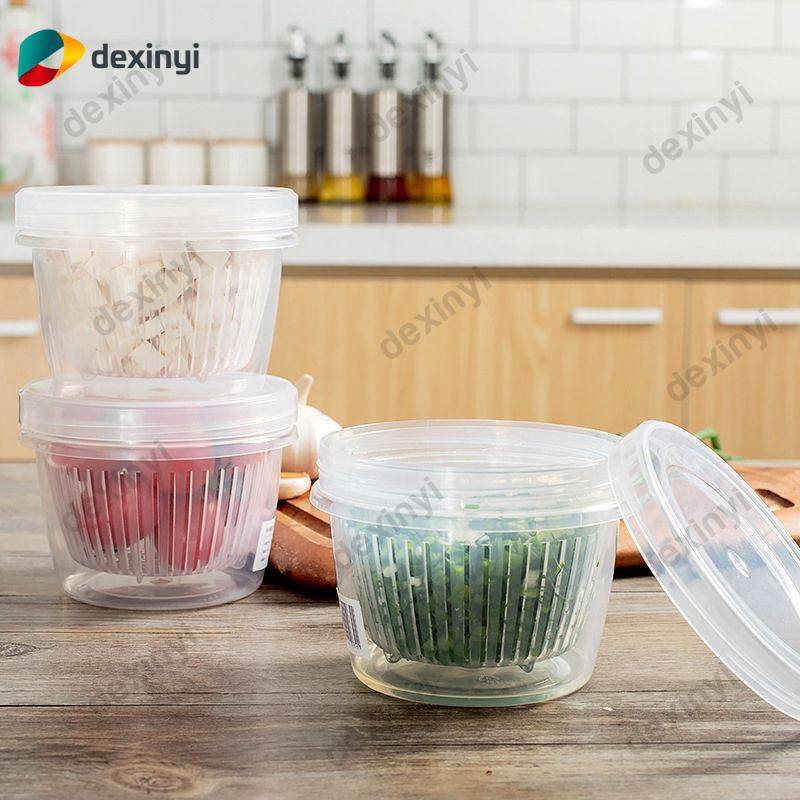PlasticBox: (8, 181, 305, 404)
